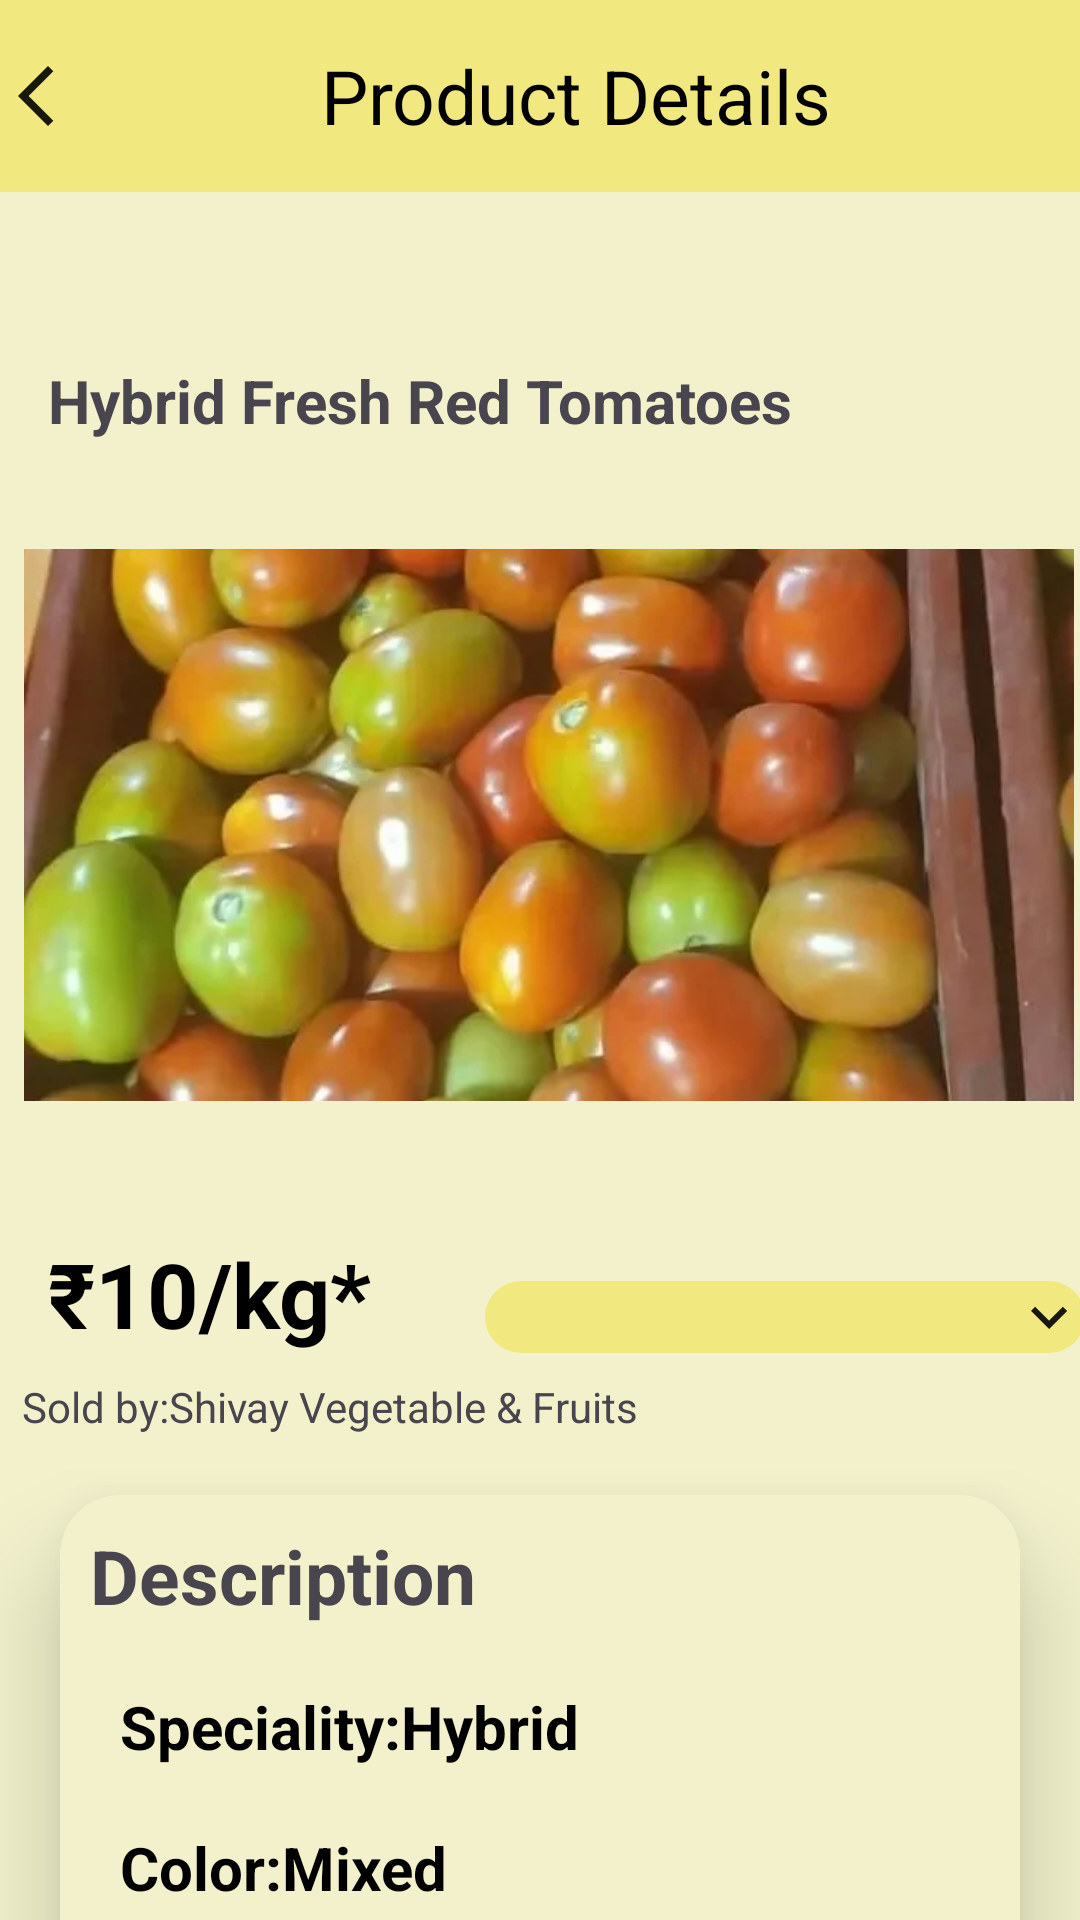

Where icons sit on this 1080px x 1920px app screen, as (x1, y1, x2, y2):
back: (18, 66, 53, 126)
